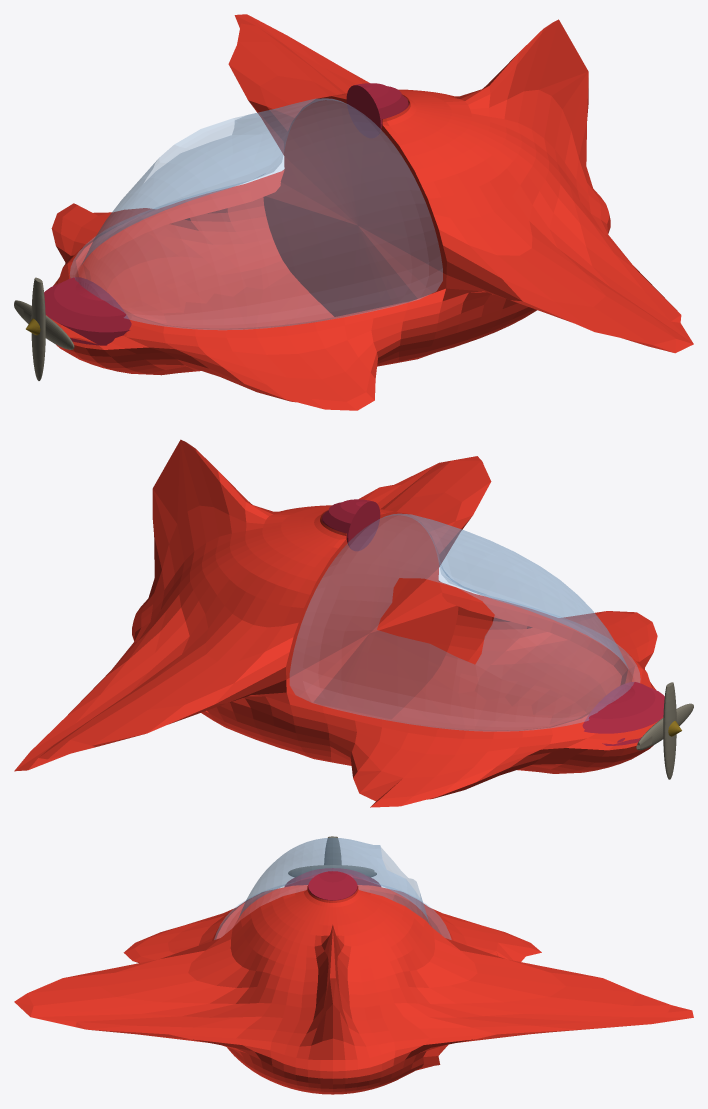
File: Plane1MinorDamage.fbx
The picture shows the model from 3 angles, top to bottom: view 1: azimuth 30°, elevation 25°; view 2: azimuth 150°, elevation 25°; view 3: azimuth 270°, elevation 25°; orthographic projection. The views are drawn at different scales.
Parts seen in each view (by area): view 1: Cockpit, Canopy, Nose, Inlet, Propeler1, Propeler2; view 2: Cockpit, Canopy, Nose, Inlet, Propeler1, Propeler2; view 3: Cockpit, Canopy, Inlet, Nose, Propeler2, Propeler1.
Part boxes in pixels (left/top/right/bottom): Cockpit: left=46, top=14, right=693, bottom=410; Canopy: left=70, top=98, right=442, bottom=329; Nose: left=44, top=277, right=131, bottom=345; Inlet: left=346, top=83, right=408, bottom=138; Propeler1: left=31, top=277, right=45, bottom=380; Propeler2: left=14, top=300, right=74, bottom=349; Cockpit: left=14, top=439, right=663, bottom=807; Canopy: left=290, top=513, right=640, bottom=731; Nose: left=582, top=682, right=664, bottom=745; Inlet: left=321, top=499, right=380, bottom=551; Propeler1: left=663, top=682, right=676, bottom=779; Propeler2: left=636, top=703, right=693, bottom=750; Cockpit: left=14, top=885, right=693, bottom=1094; Canopy: left=214, top=837, right=451, bottom=939; Inlet: left=308, top=871, right=357, bottom=900; Nose: left=284, top=868, right=381, bottom=886; Propeler2: left=288, top=865, right=376, bottom=877; Propeler1: left=324, top=836, right=341, bottom=864.
Size of the model in its own units: 461 by 200 by 644.
